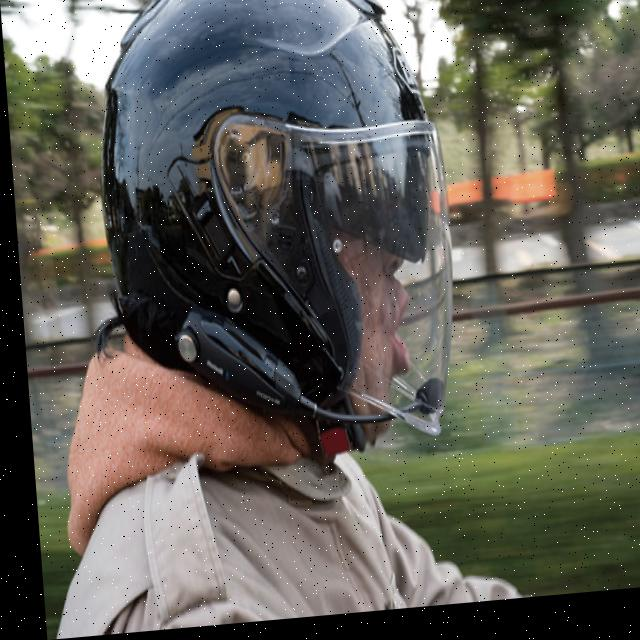helmet: (83, 0, 467, 483)
